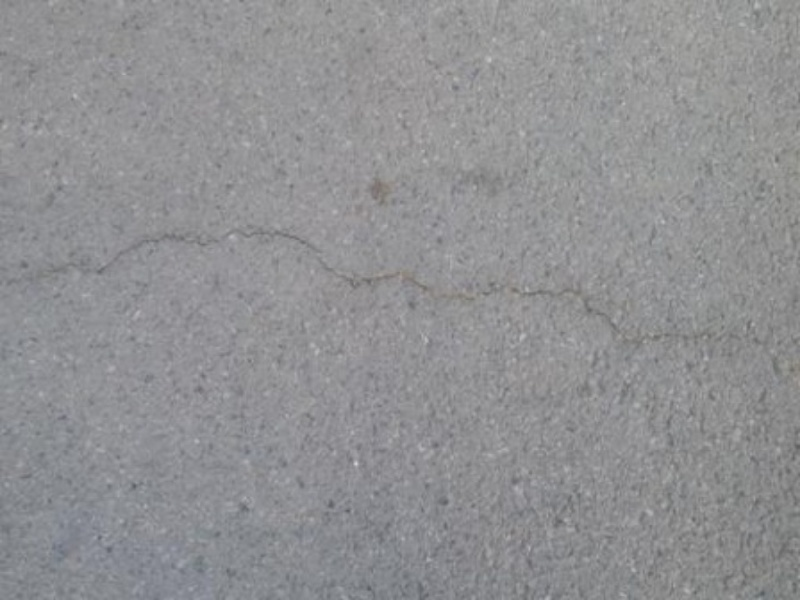crack: (9, 207, 778, 386)
